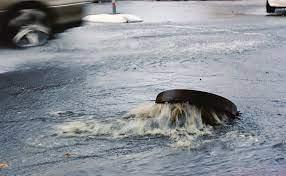drainage overflow-repair-: (58, 84, 261, 150)
